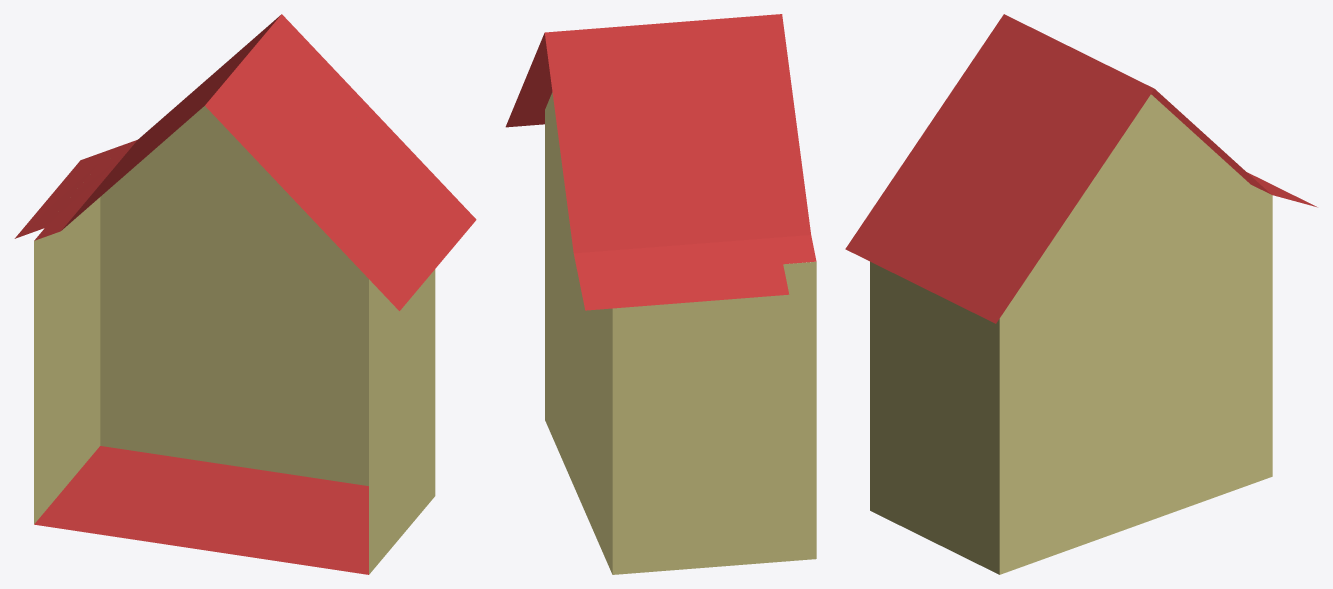
3 renders of one model, left to right at view 1: azimuth 30°, elevation 25°; view 2: azimuth 150°, elevation 25°; view 3: azimuth 270°, elevation 25°, orthographic. The views are drawn at different scales.
Bounding box in the file's own units: 13.17 × 14.48 × 15.13.
